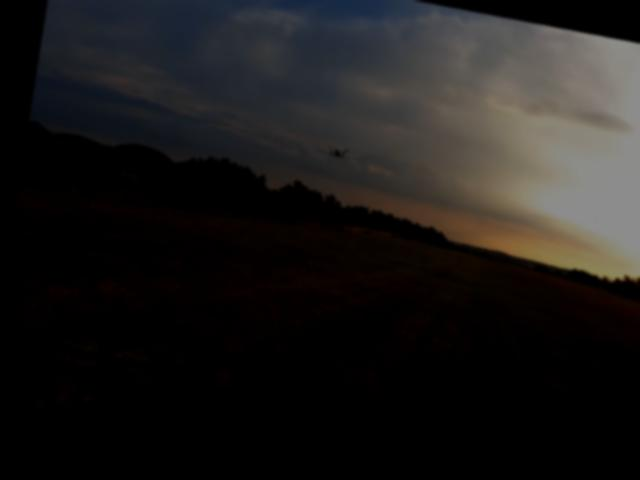plane: (314, 141, 359, 164)
